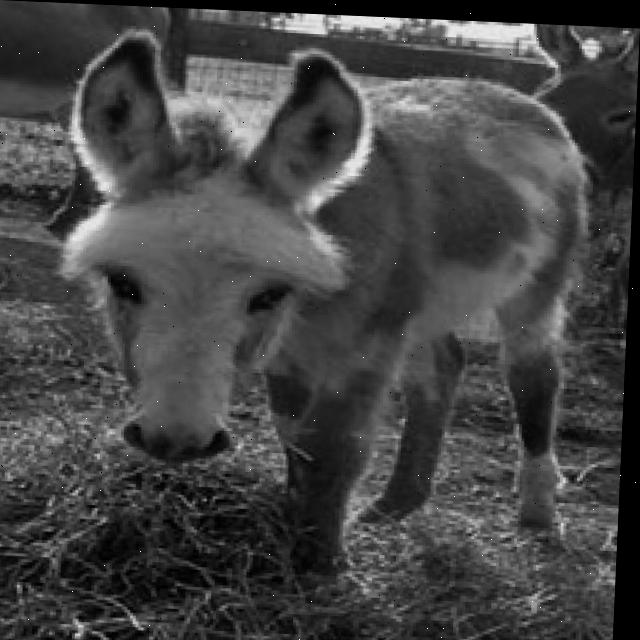Donkey: (43, 23, 599, 595), (0, 0, 188, 239), (515, 24, 637, 337)
